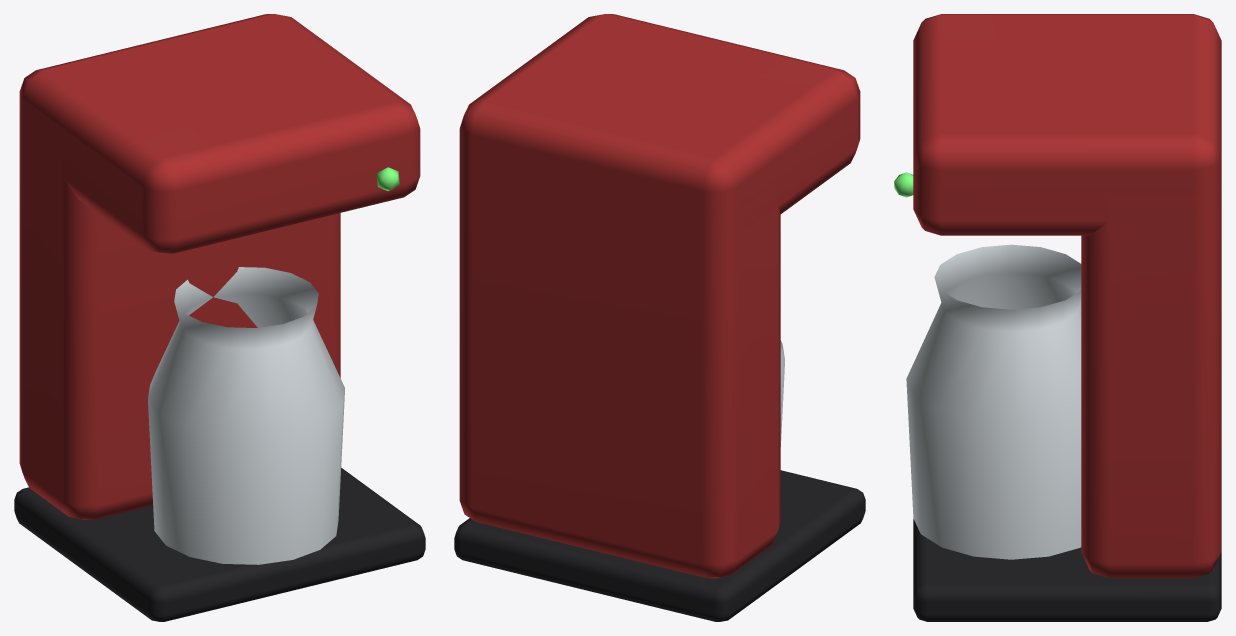
Rendered from furn_coffee_maker.glb.
3 renders of one model, left to right at view 1: azimuth 30°, elevation 25°; view 2: azimuth 150°, elevation 25°; view 3: azimuth 270°, elevation 25°, orthographic. The views are drawn at different scales.
Visible parts, largest first — view 1: furn_coffee_maker_main, furn_coffee_maker_clear; view 2: furn_coffee_maker_main; view 3: furn_coffee_maker_main, furn_coffee_maker_clear.
Boxes of the visible parts, x1,y1,x2,y2 form: furn_coffee_maker_main: (14,14,425,621); furn_coffee_maker_clear: (148,267,344,564); furn_coffee_maker_main: (454,14,865,621); furn_coffee_maker_main: (913,14,1221,621); furn_coffee_maker_clear: (906,244,1081,559).
Size of the model in its own units: 0.24 by 0.38 by 0.2335.
